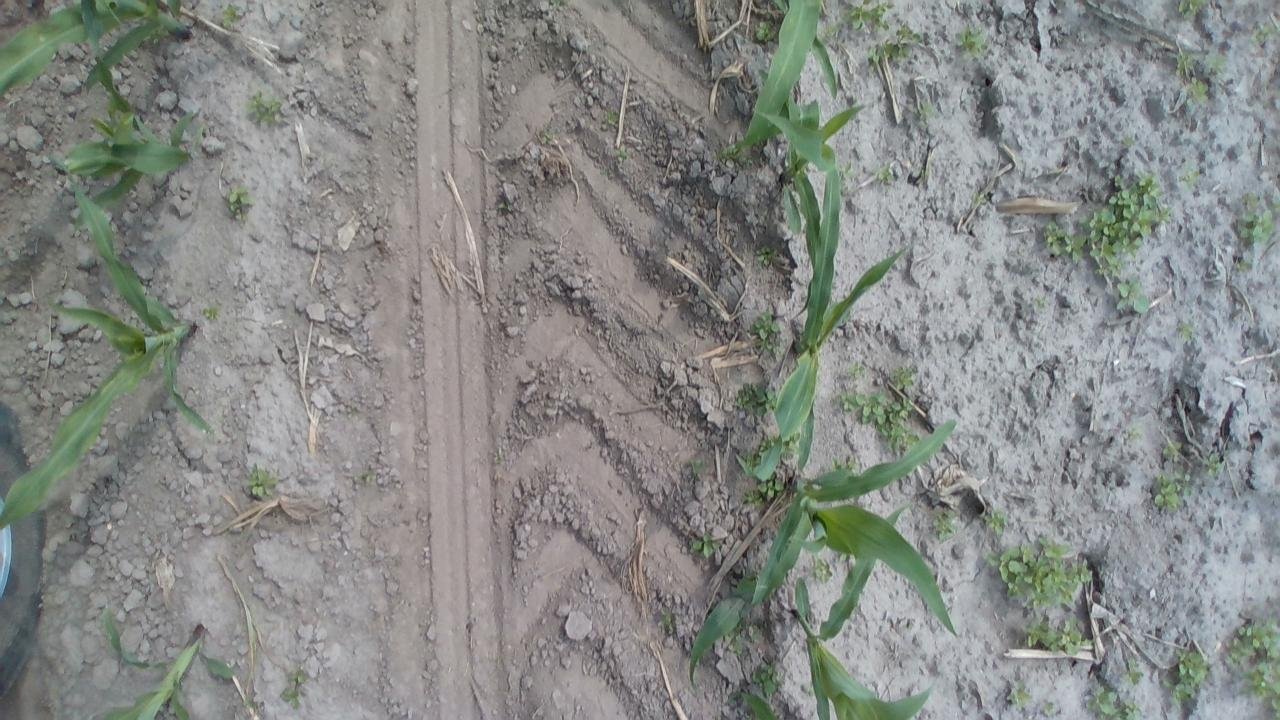Maize: (678, 414, 973, 690), (0, 168, 214, 526), (741, 127, 907, 484), (790, 502, 950, 720), (746, 80, 870, 320), (44, 68, 206, 219), (0, 0, 195, 100), (80, 600, 244, 718), (734, 0, 841, 143), (738, 687, 784, 720)
Weeds: (1080, 167, 1176, 273), (984, 536, 1090, 612), (842, 387, 918, 452), (1225, 620, 1277, 710), (1162, 642, 1214, 709), (1020, 616, 1094, 654), (1236, 191, 1274, 248), (866, 25, 916, 66), (1148, 470, 1194, 514), (1041, 218, 1086, 262), (1086, 684, 1143, 718), (749, 310, 787, 360), (1170, 50, 1206, 102), (734, 380, 781, 419), (243, 90, 288, 128), (1113, 276, 1151, 318), (845, 1, 892, 34), (746, 431, 787, 468), (742, 474, 786, 507), (749, 660, 786, 696), (244, 465, 280, 500), (224, 184, 255, 224), (279, 667, 308, 709), (1172, 48, 1200, 90), (686, 531, 722, 562), (1179, 72, 1211, 106), (958, 26, 991, 58), (1198, 450, 1229, 482), (717, 138, 751, 167), (929, 507, 958, 540), (1116, 654, 1144, 688), (727, 620, 754, 654), (890, 364, 921, 393), (985, 504, 1010, 536), (1006, 678, 1032, 708), (811, 555, 836, 585), (655, 608, 681, 636), (1158, 437, 1184, 464), (910, 98, 934, 127), (878, 161, 901, 189), (1176, 0, 1208, 20), (218, 4, 244, 28), (752, 20, 778, 44), (732, 570, 758, 594), (1175, 320, 1199, 346), (687, 456, 710, 482), (1252, 22, 1276, 46), (536, 124, 560, 147), (754, 244, 775, 270), (967, 188, 990, 210), (1207, 50, 1227, 75), (490, 444, 510, 468), (600, 110, 620, 132), (1124, 425, 1146, 445), (829, 459, 858, 474), (1183, 166, 1201, 189), (494, 196, 514, 216), (201, 302, 222, 321), (916, 164, 934, 186), (1038, 698, 1060, 716), (838, 161, 855, 184), (844, 363, 867, 380), (357, 470, 378, 488), (616, 144, 633, 166), (1034, 292, 1052, 312), (1234, 257, 1253, 275), (820, 22, 836, 42), (1120, 134, 1138, 151)
